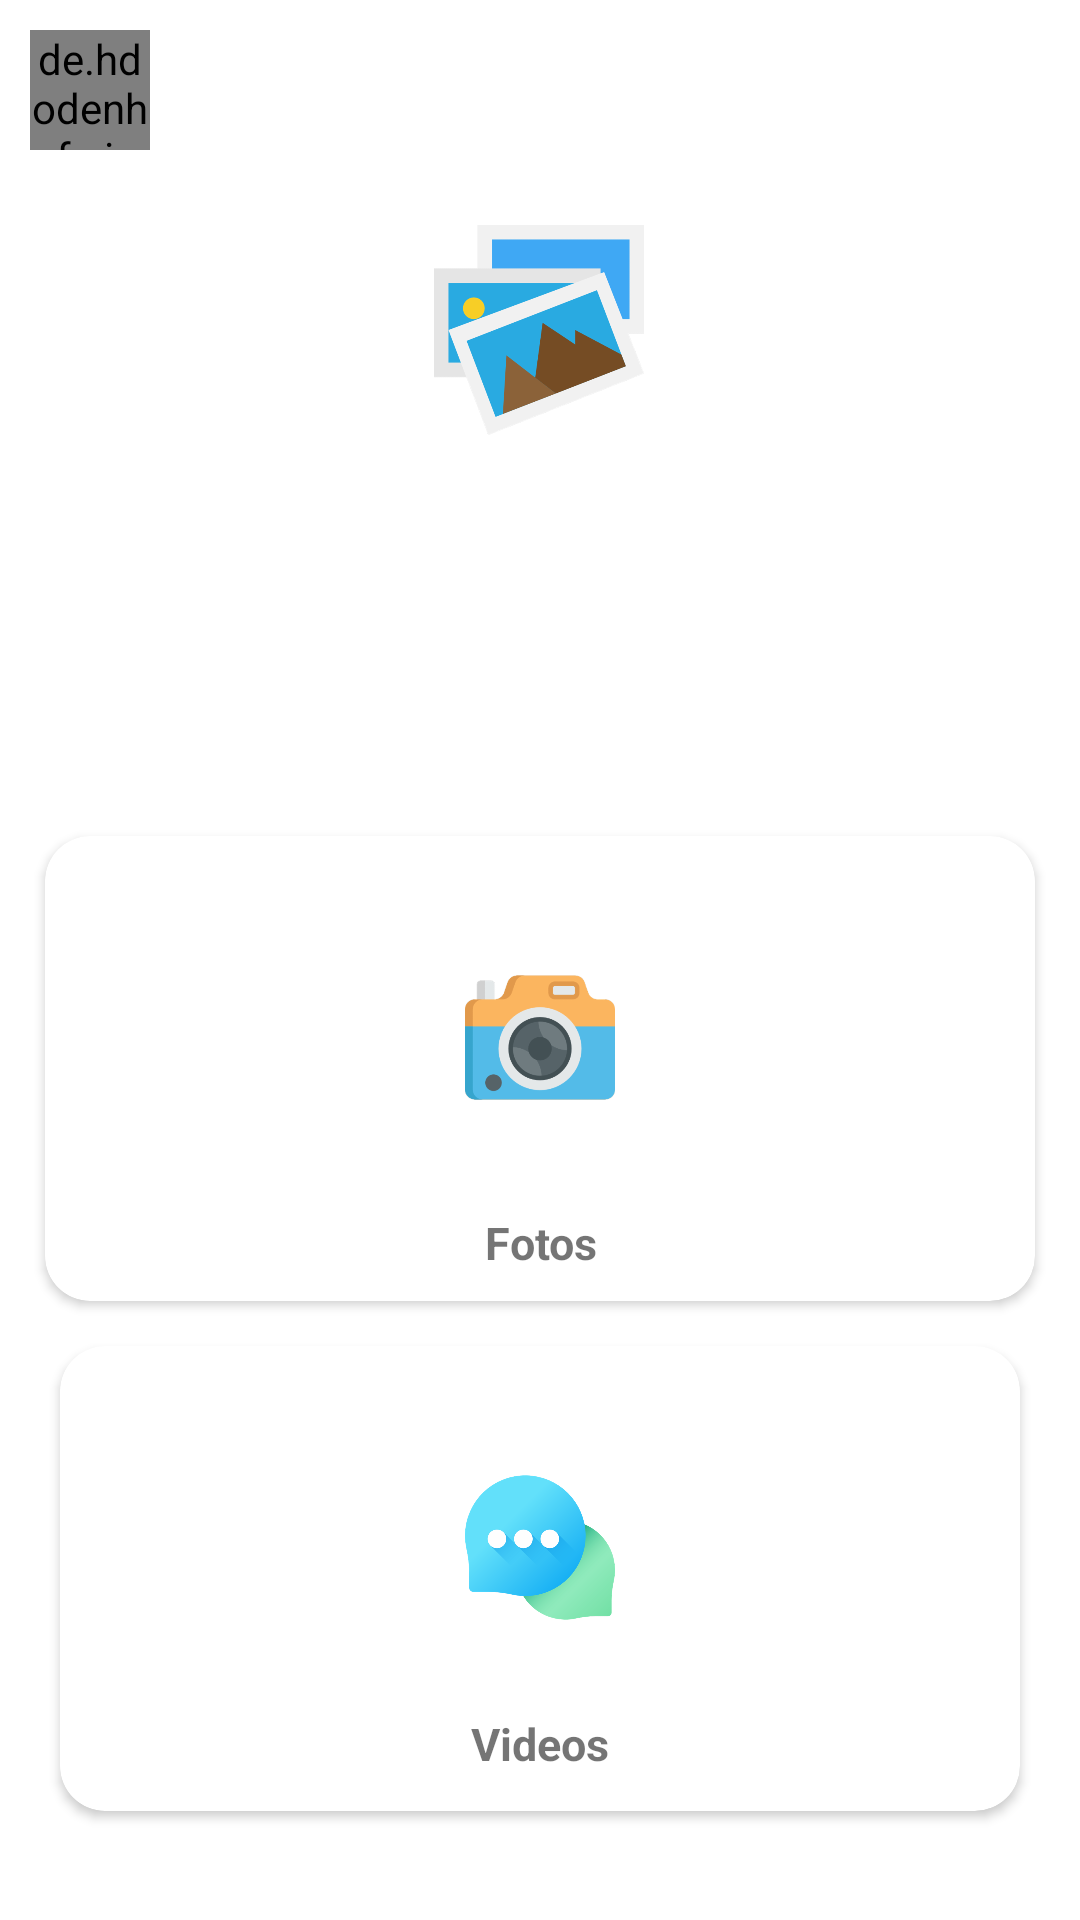

Named icons in this screenshot (1080x1920) and their bounding boxes, [left=x1, top=y1, right=x2, bottom=y2]:
camara: [left=465, top=975, right=615, bottom=1100]
charla: [left=465, top=1475, right=615, bottom=1620]
